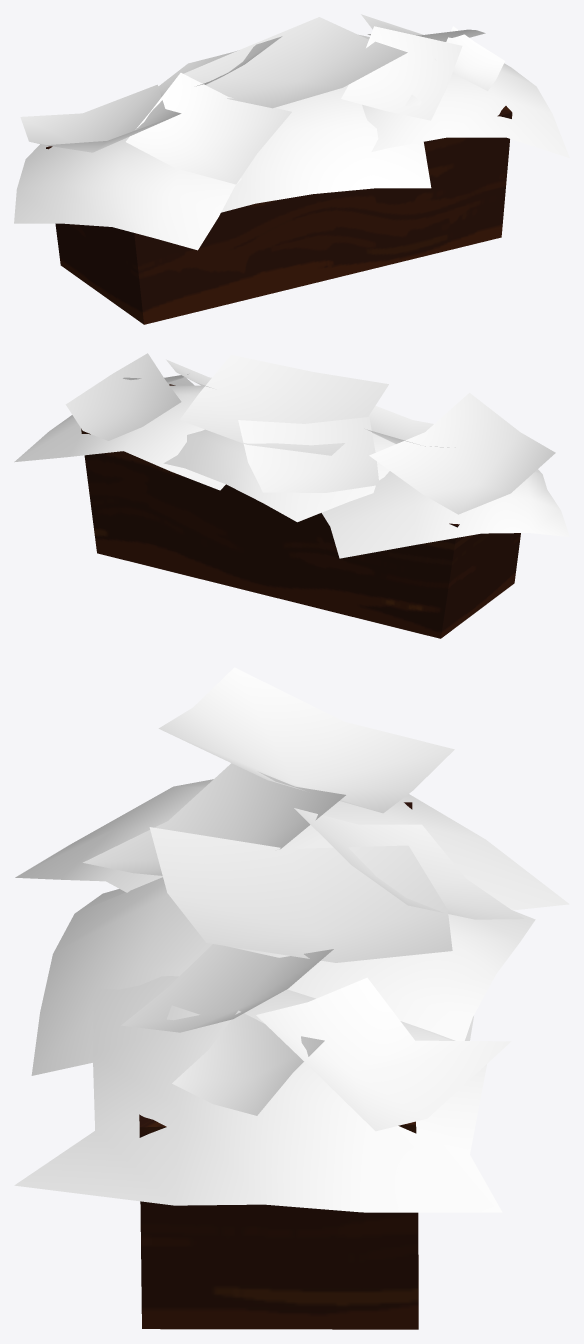
The model's file is SM_PROP_PLANT_pot_v1_04.fbx.
3 renders of one model, top to bottom at view 1: azimuth 30°, elevation 25°; view 2: azimuth 150°, elevation 25°; view 3: azimuth 270°, elevation 25°, orthographic. The views are drawn at different scales.
Parts seen in each view (by area): view 1: SM_PROP_PLANT_pot_v1_04; view 2: SM_PROP_PLANT_pot_v1_04; view 3: SM_PROP_PLANT_pot_v1_04.
Part boxes in pixels (x1,y1,x2,y2): SM_PROP_PLANT_pot_v1_04: (14,14,569,324); SM_PROP_PLANT_pot_v1_04: (14,353,569,638); SM_PROP_PLANT_pot_v1_04: (14,667,569,1329).
Size of the model in its own units: 112 by 40.12 by 59.89.
